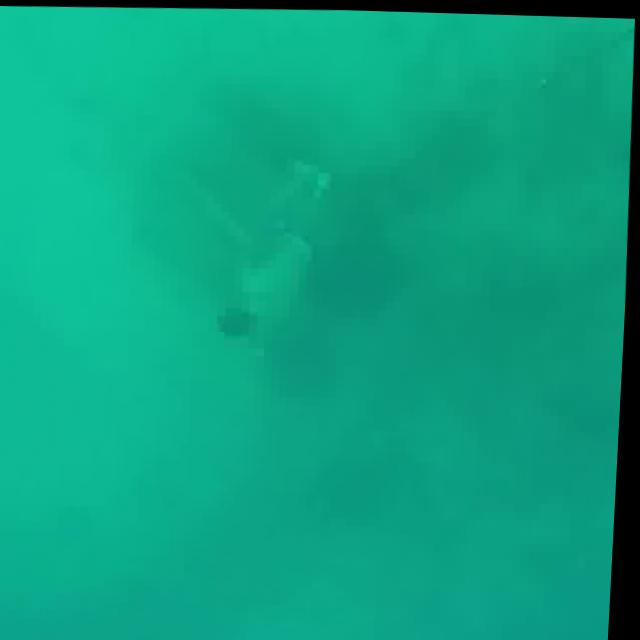human: (196, 139, 341, 347)
